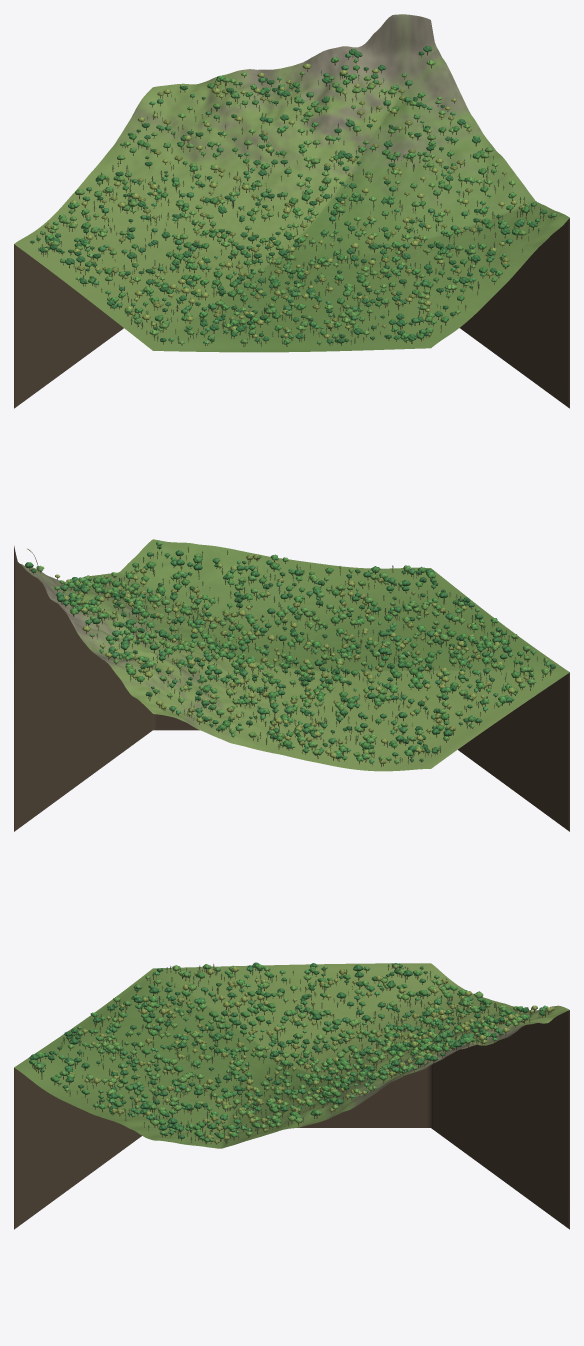
3 views of the same model, one above another, from view 1: azimuth 30°, elevation 25°; view 2: azimuth 150°, elevation 25°; view 3: azimuth 270°, elevation 25° (orthographic).
Parts seen in each view (by area): view 1: terrain, broadleaf_canopy, hex_side_cut, trunks, conifer_canopy; view 2: terrain, broadleaf_canopy, hex_side_cut, trunks, conifer_canopy; view 3: terrain, hex_side_cut, broadleaf_canopy, trunks, conifer_canopy.
Part boxes in pixels (x1,y1,x2,y2): terrain: (14, 14, 569, 352); broadleaf_canopy: (30, 46, 556, 344); hex_side_cut: (14, 218, 569, 408); trunks: (32, 52, 554, 346); conifer_canopy: (36, 70, 544, 344); terrain: (20, 539, 569, 771); broadleaf_canopy: (25, 541, 555, 763); hex_side_cut: (14, 546, 569, 831); trunks: (29, 547, 553, 766); conifer_canopy: (79, 546, 551, 761); terrain: (14, 963, 569, 1148); hex_side_cut: (14, 1010, 569, 1229); broadleaf_canopy: (29, 962, 554, 1143); trunks: (32, 963, 551, 1145); conifer_canopy: (32, 964, 546, 1141).
Size of the model in its own units: 4330 by 2904 by 5000.
6 materials, 1 textured.
